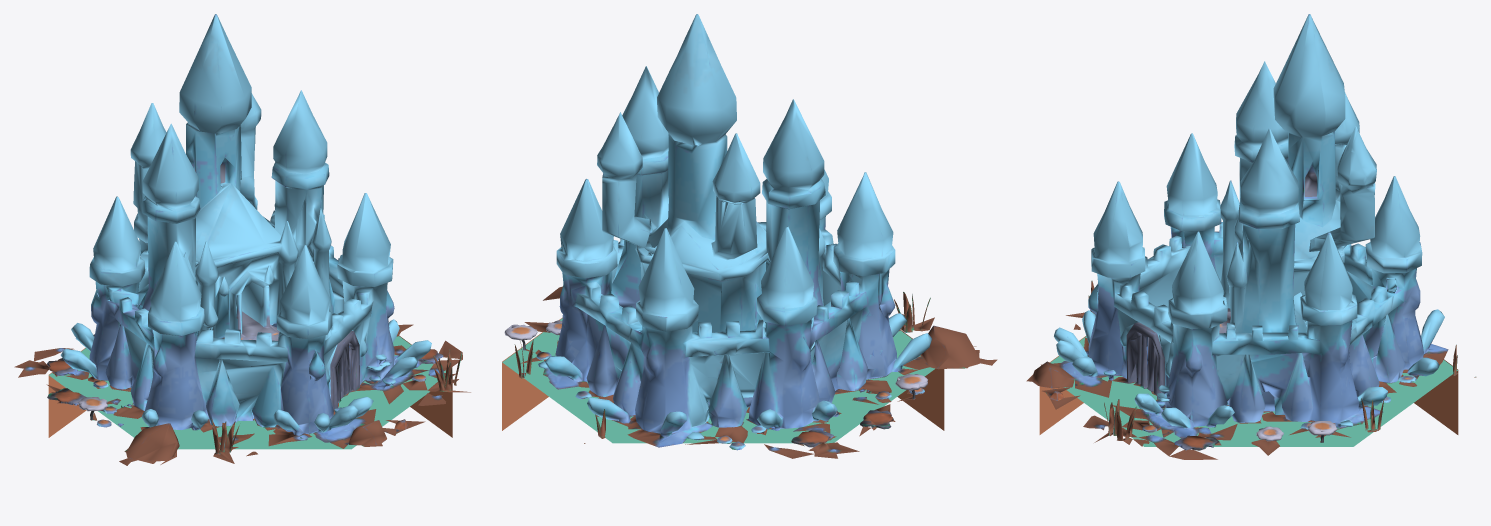
The model's file is raindrop-castle.glb.
The picture shows the model from 3 angles, left to right: view 1: azimuth 30°, elevation 25°; view 2: azimuth 150°, elevation 25°; view 3: azimuth 270°, elevation 25°; orthographic projection. The views are drawn at different scales.
Parts seen in each view (by area): view 1: world, hexBase; view 2: world, hexBase; view 3: world, hexBase.
Boxes of the visible parts, x1,y1,x2,y2 form: world: [14, 14, 470, 465]; hexBase: [48, 335, 452, 449]; world: [504, 14, 997, 458]; hexBase: [502, 317, 944, 443]; world: [1026, 14, 1476, 459]; hexBase: [1039, 336, 1458, 446].
Bounding box in the file's own units: 1.22 × 1.27 × 1.24.
3 materials, 1 textured.
